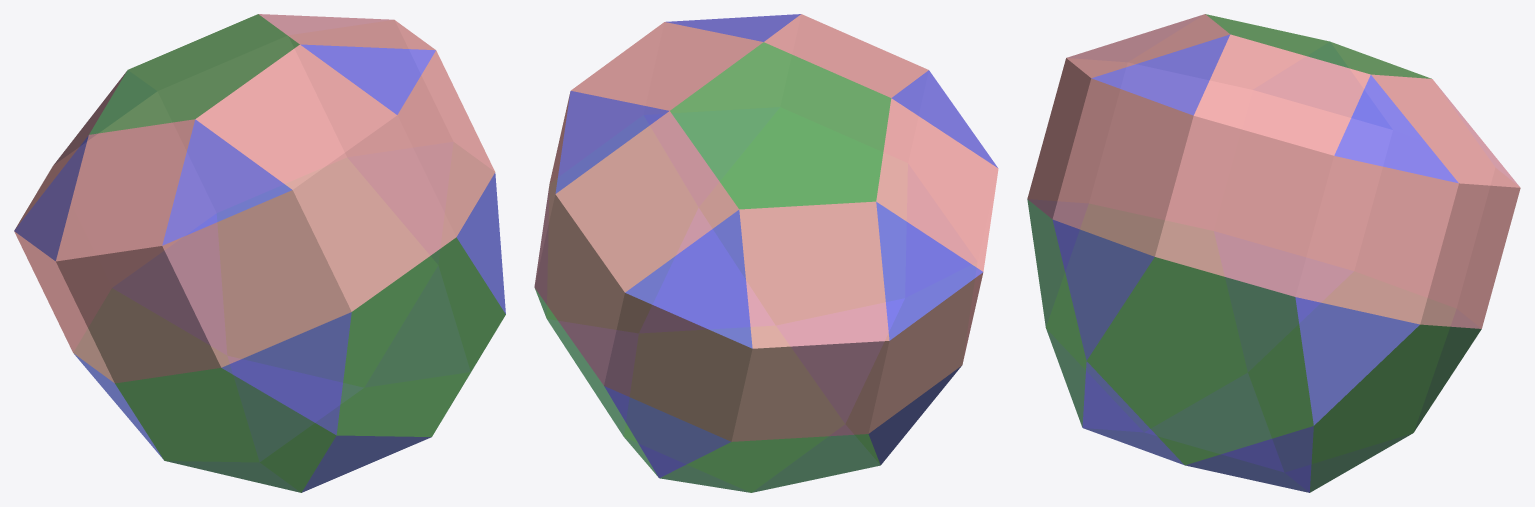
Rendered from j41_elongated_pentagonal_gyrocupolarotunda.obj.
The picture shows the model from 3 angles, left to right: view 1: azimuth 30°, elevation 25°; view 2: azimuth 150°, elevation 25°; view 3: azimuth 270°, elevation 25°; orthographic projection. The views are drawn at different scales.
Bounding box in the file's own units: 1.97 × 1.95 × 1.96.
